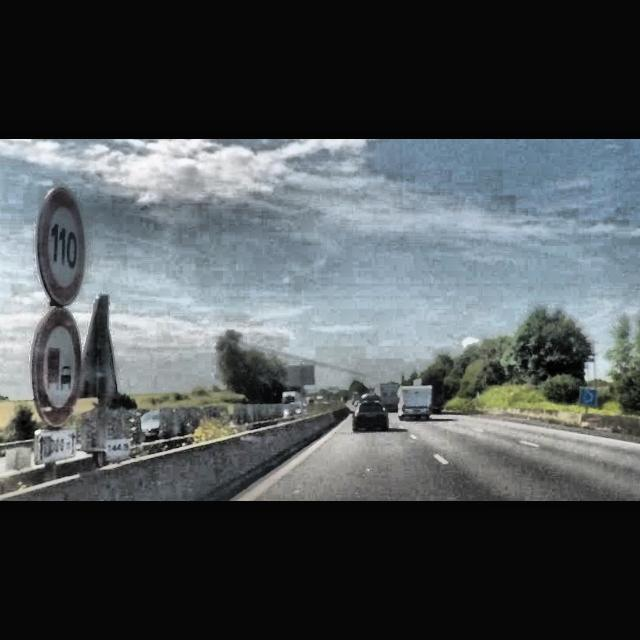speed_110: (40, 187, 84, 305)
